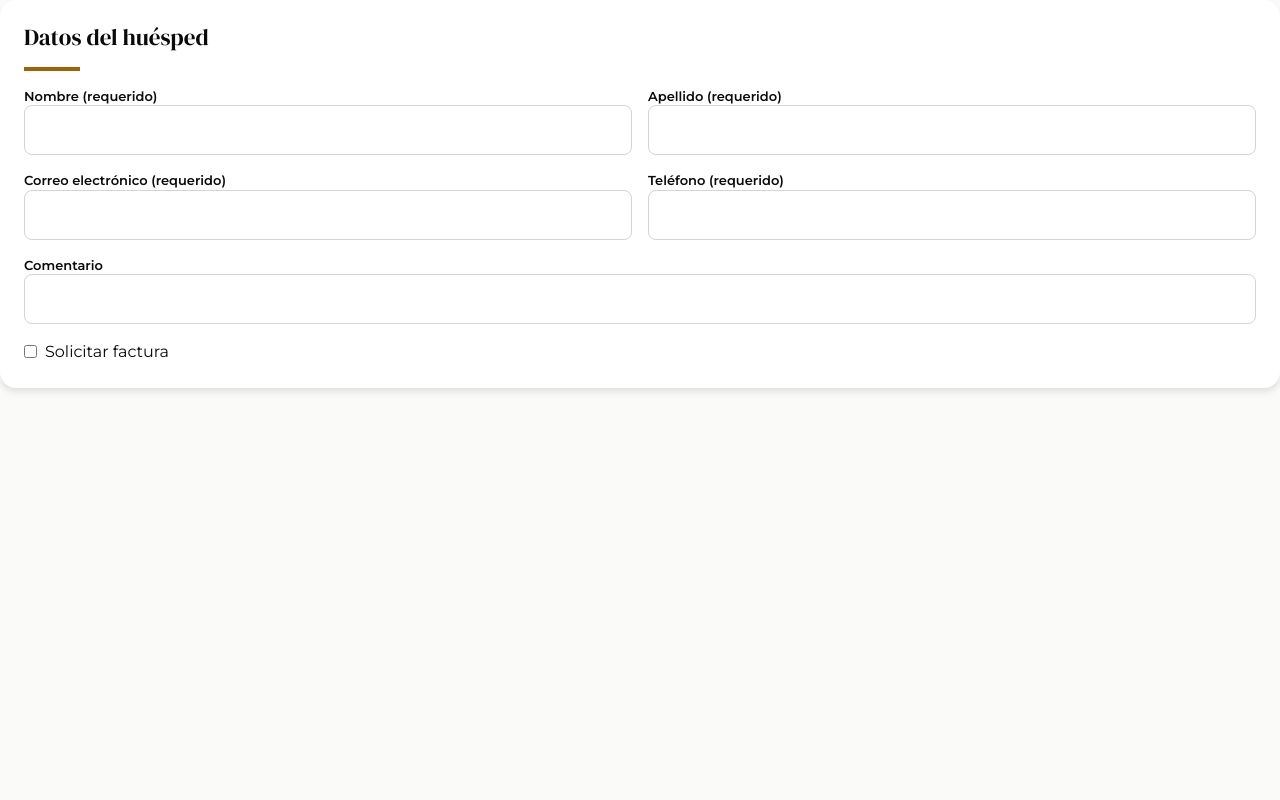
Scenario: GuestInformationForm › shows the Chilean RUT validation message on blur once invoice data is requested
This screenshot has width=1280, height=800.
Click the checkbox labelled "Solicitar factura" at (30, 352), box [24, 345, 37, 358]
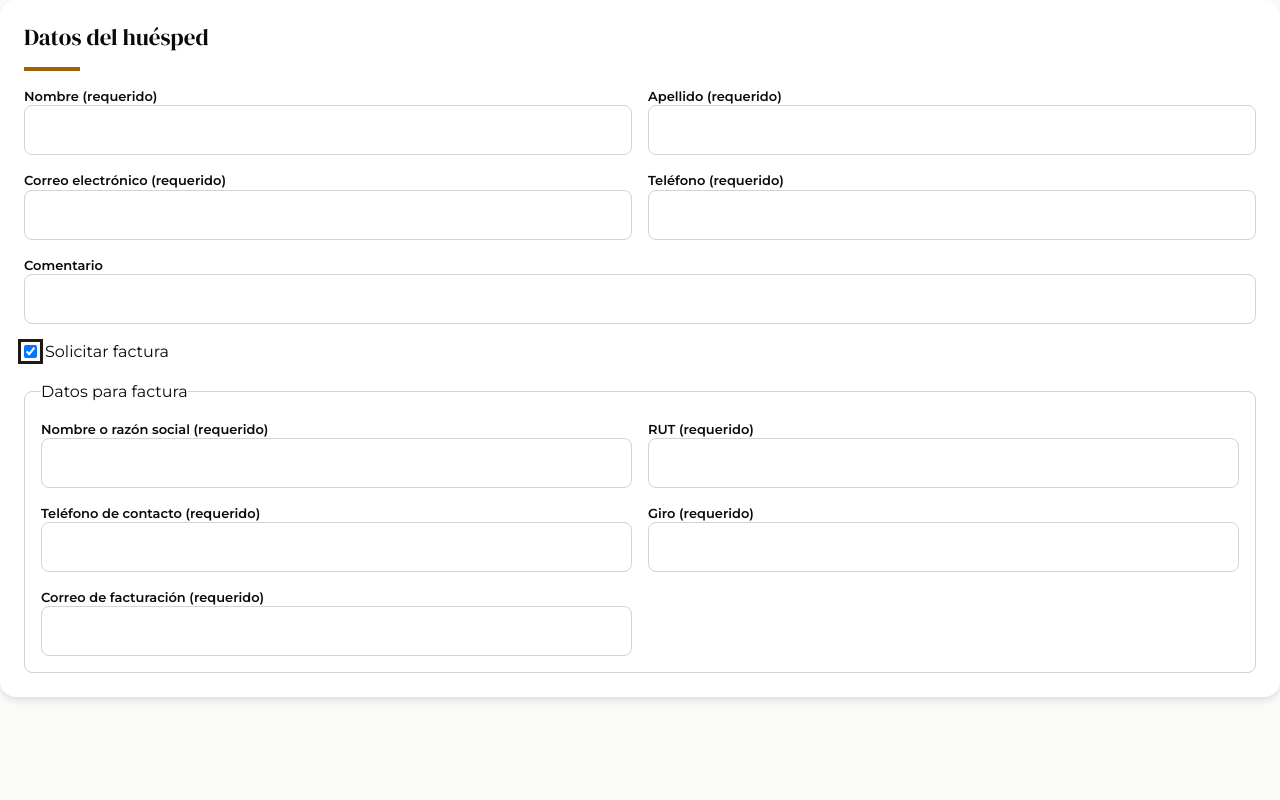
Type "76.000.543-2" into the field labelled "RUT (requerido)" at (944, 463), box [648, 438, 1239, 488]
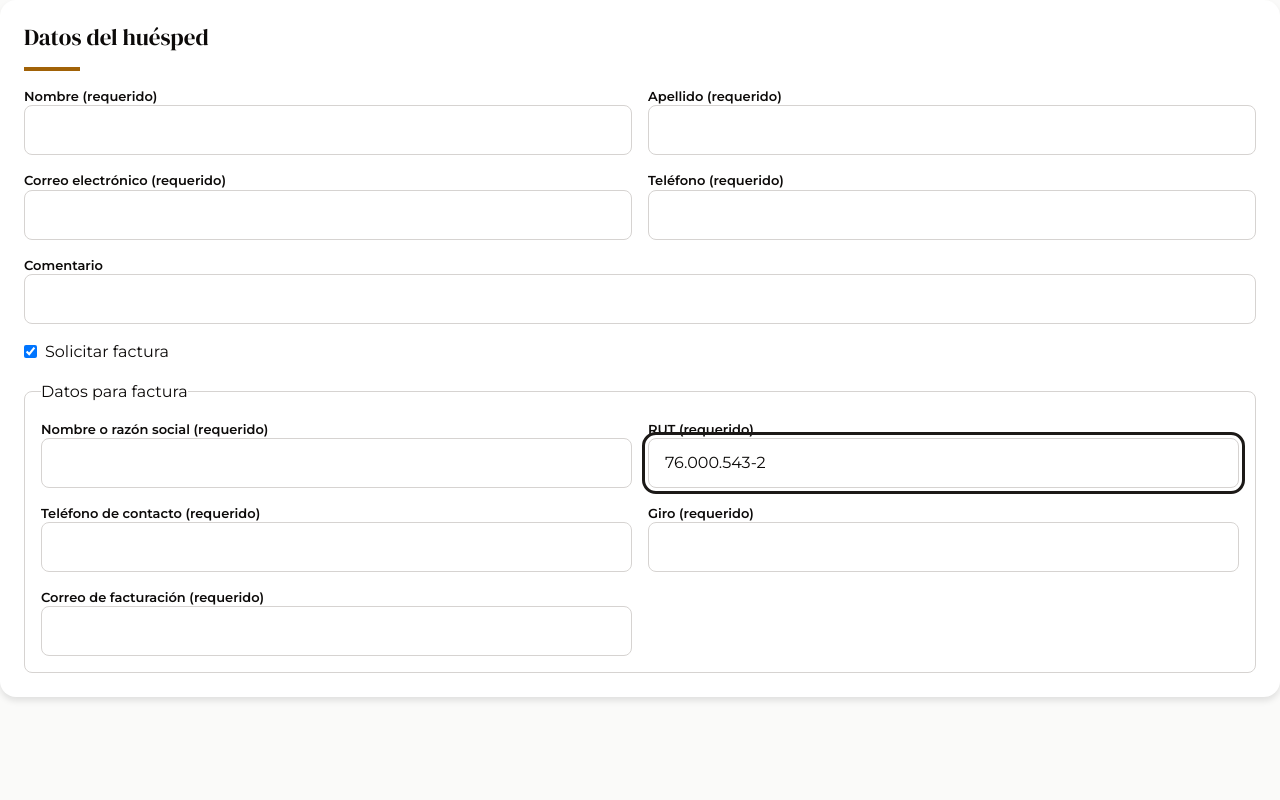
Press Tab
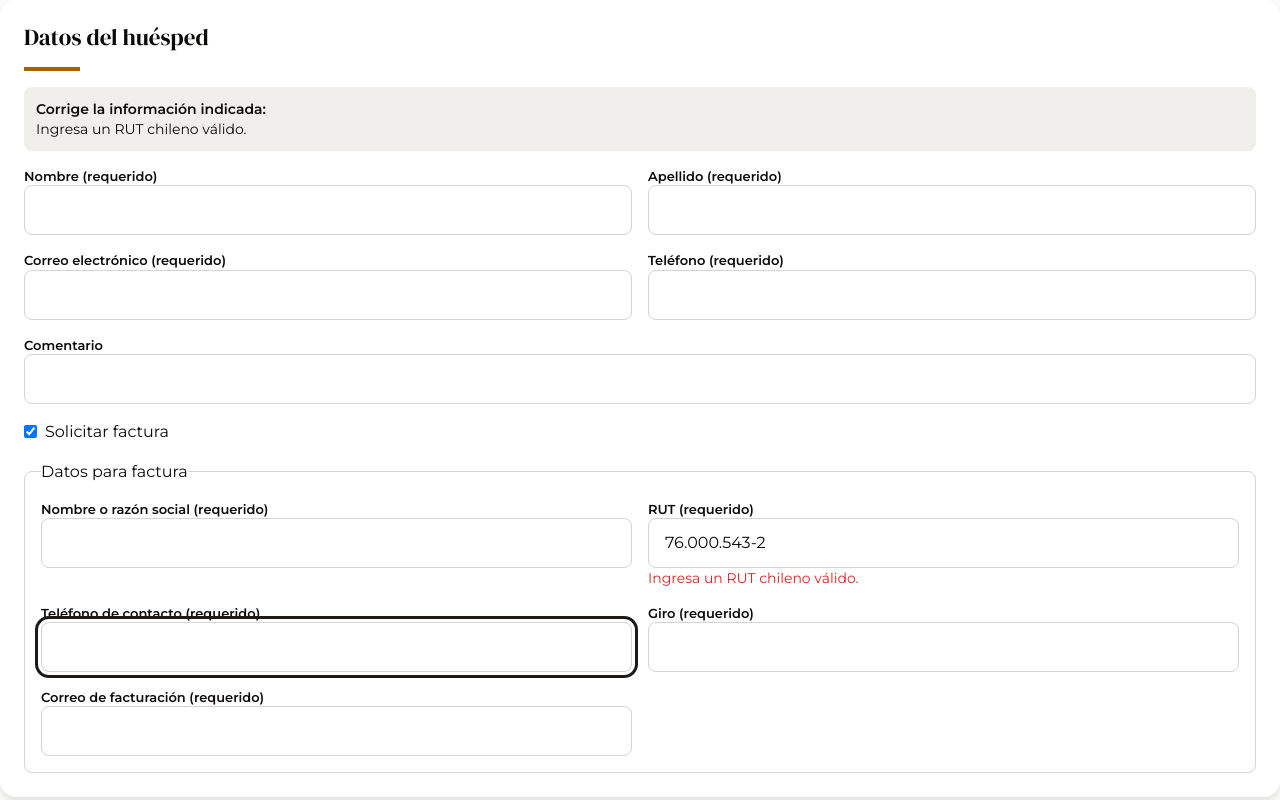
Expected: the list item "Ingresa un RUT chileno válido." is shown, [36, 120, 246, 138]
